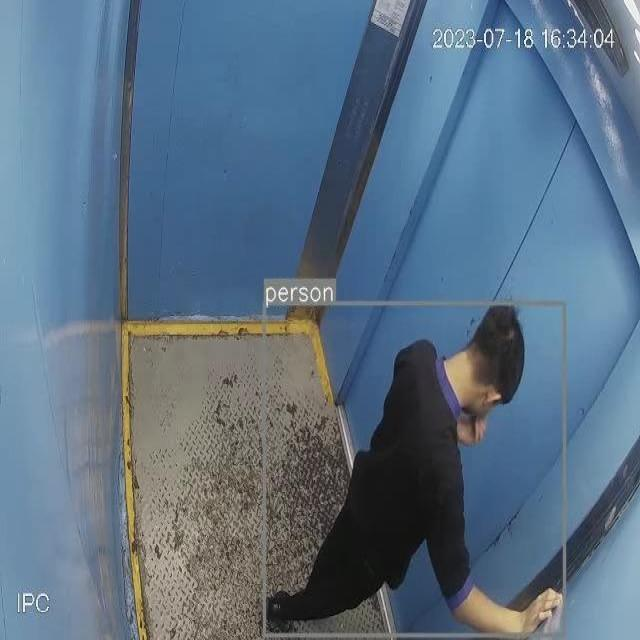person: (268, 303, 565, 636)
